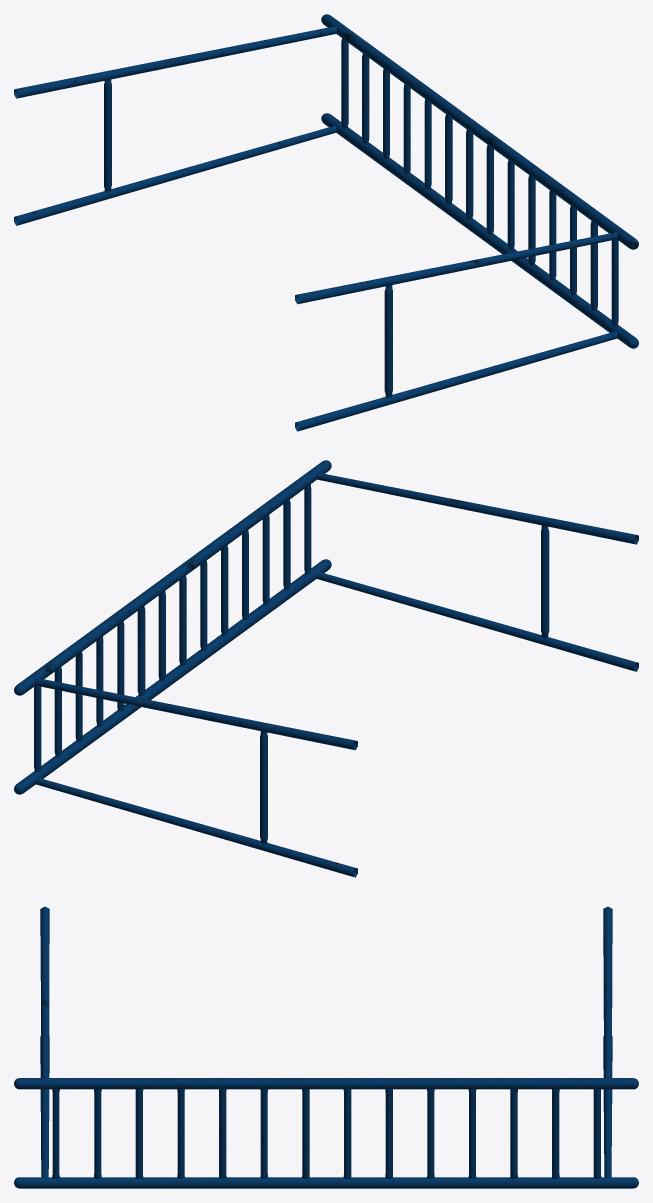
Rendered from cP_MonkeyBars.dae.
3 views of the same model, one above another, from view 1: azimuth 30°, elevation 25°; view 2: azimuth 150°, elevation 25°; view 3: azimuth 270°, elevation 25° (orthographic).
Visible parts, largest first — view 1: cP_MonkeyBars.001; view 2: cP_MonkeyBars.001; view 3: cP_MonkeyBars.001.
Part boxes in pixels (x1,y1,x2,y2): cP_MonkeyBars.001: (14,14,638,431); cP_MonkeyBars.001: (14,460,638,877); cP_MonkeyBars.001: (14,906,638,1188).
Size of the model in its own units: 2.67 by 4.39 by 1.06.
